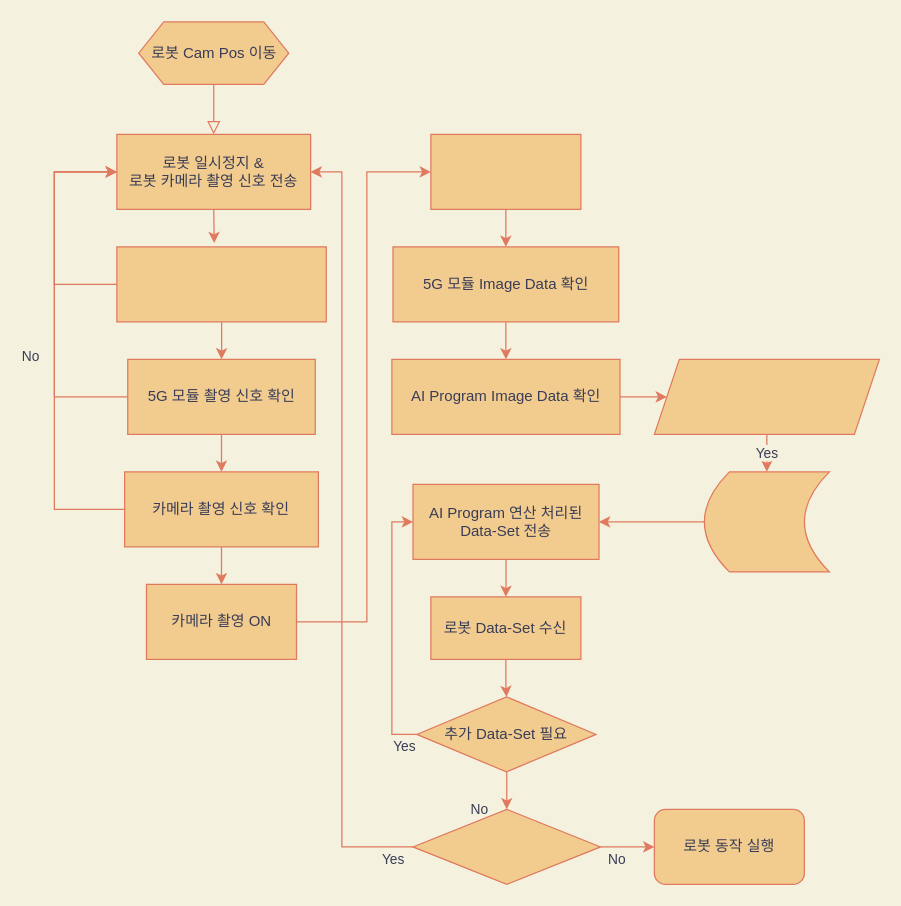
The diagram is 901 pixels wide and 906 high, and some of its shapes have lost their labels. Each missing label, with the centre of its shape:
"AI Program 촬영 신호 확인" goes at (x=221, y=284).
"Image Data의 AI 분석" goes at (x=766, y=396).
"JSON Data-Set" goes at (x=766, y=521).
"추가 촬영 Image Data-Set 필요" goes at (x=506, y=846).
"카메라로 촬영된 Image Data" goes at (x=505, y=171).
